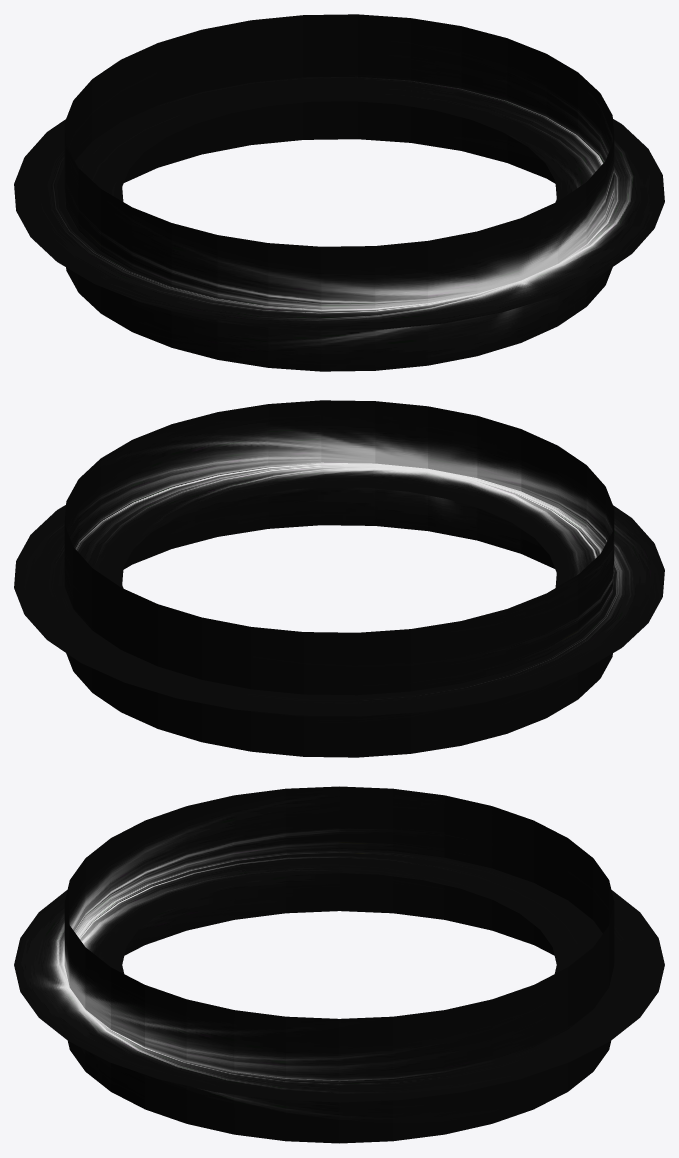
File: 0011_BUFFROUND.glb
3 renders of one model, top to bottom at view 1: azimuth 30°, elevation 25°; view 2: azimuth 150°, elevation 25°; view 3: azimuth 270°, elevation 25°, orthographic.
Size of the model in its own units: 2.2 by 0.4646 by 2.2.
1 material, 1 textured.
